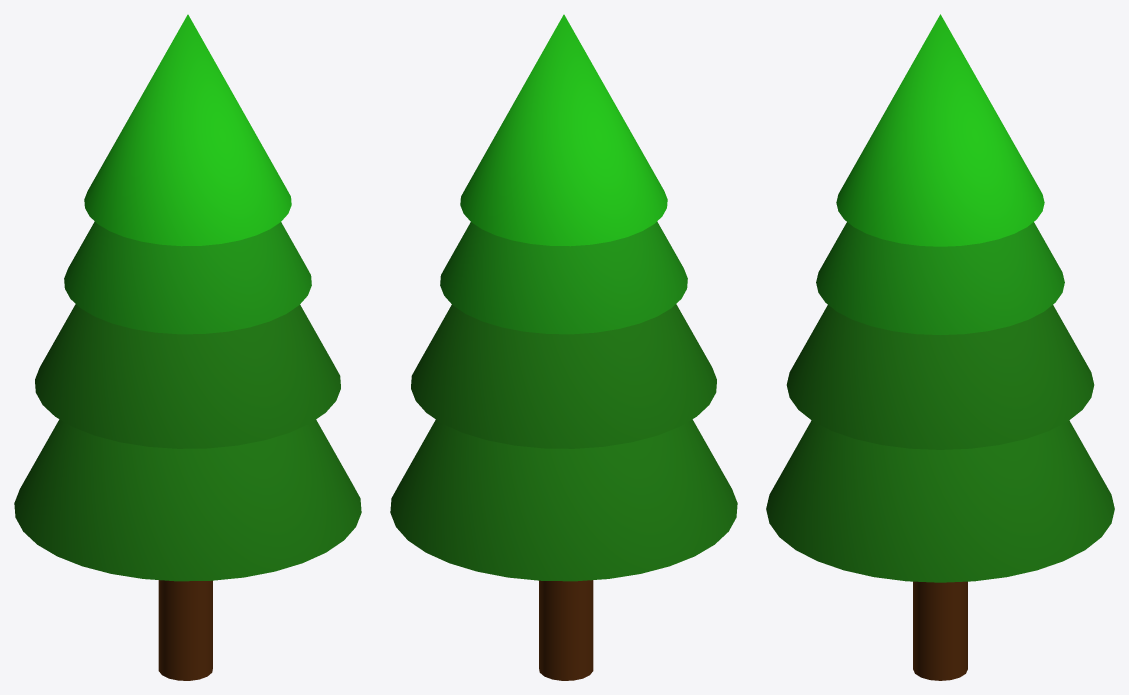
Rendered from tree 4.fbx.
3 renders of one model, left to right at view 1: azimuth 30°, elevation 25°; view 2: azimuth 150°, elevation 25°; view 3: azimuth 270°, elevation 25°, orthographic.
Parts seen in each view (by area): view 1: tree 4; view 2: tree 4; view 3: tree 4.
Boxes of the visible parts, box(x1,y1,x2,y2) form: tree 4: box(14, 14, 361, 680); tree 4: box(390, 14, 737, 680); tree 4: box(766, 14, 1114, 680).
Size of the model in its own units: 350 by 727 by 350.
